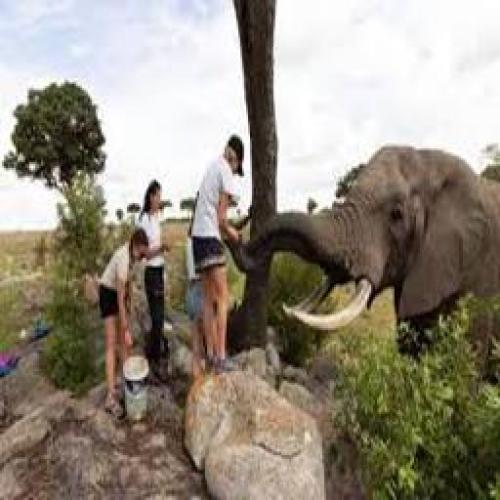african_elephant-endangered: (265, 144, 500, 342)
